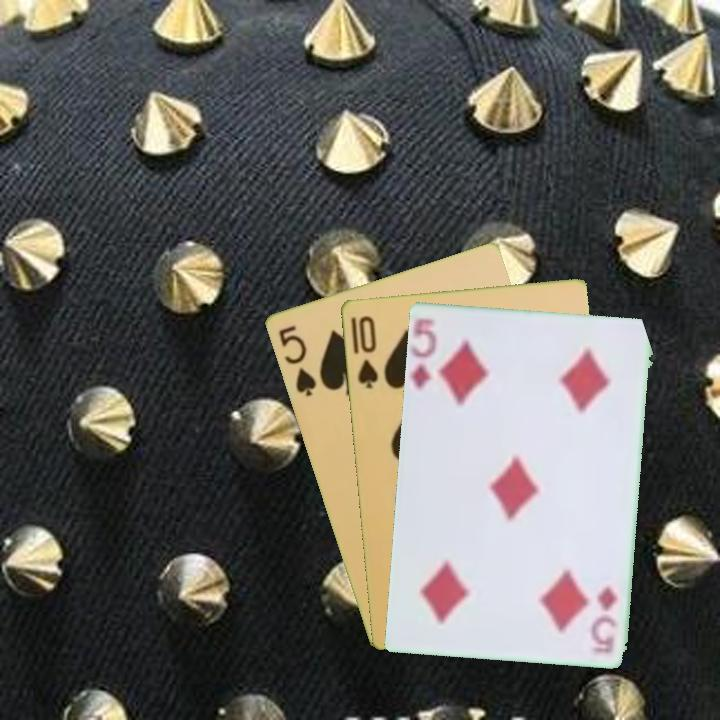10s: (353, 311, 381, 391)
5d: (407, 317, 439, 393), (593, 582, 621, 656)
5s: (274, 321, 319, 400)
